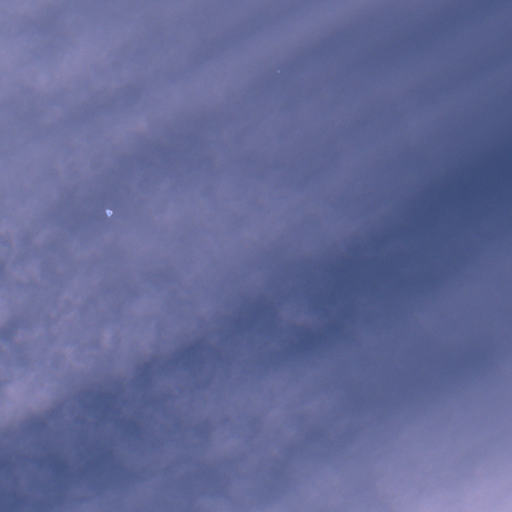Iceberg: (105, 209, 112, 216), (277, 71, 279, 72)
